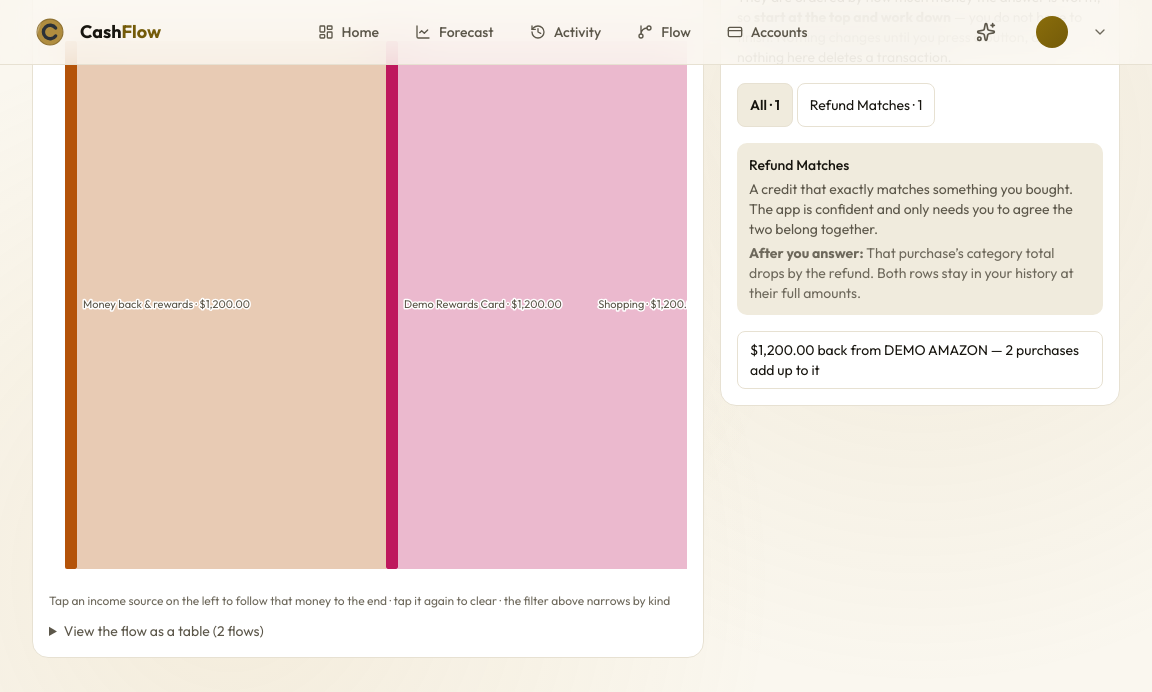
FIN-RECOVERY-UI-001 · confirmation and editing (F1-F8) › F6 — after confirming: the count updates, the item leaves, aria-live announces, no reload
(page scrolled)
Click the button "$1,200.00 back from DEMO AMAZON — 2 purchases add up to it": [920, 360] box left=737, top=331, right=1103, bottom=389
(page scrolled)
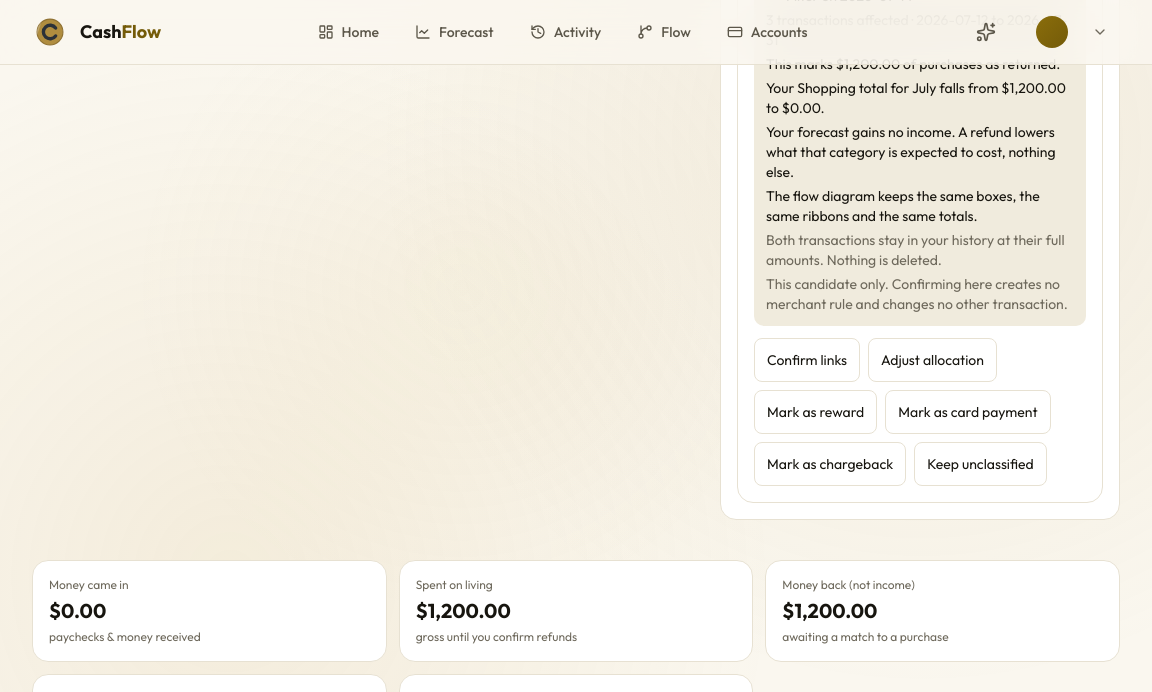
Click the button "Confirm links": [807, 360] box left=754, top=338, right=860, bottom=382
(page scrolled)
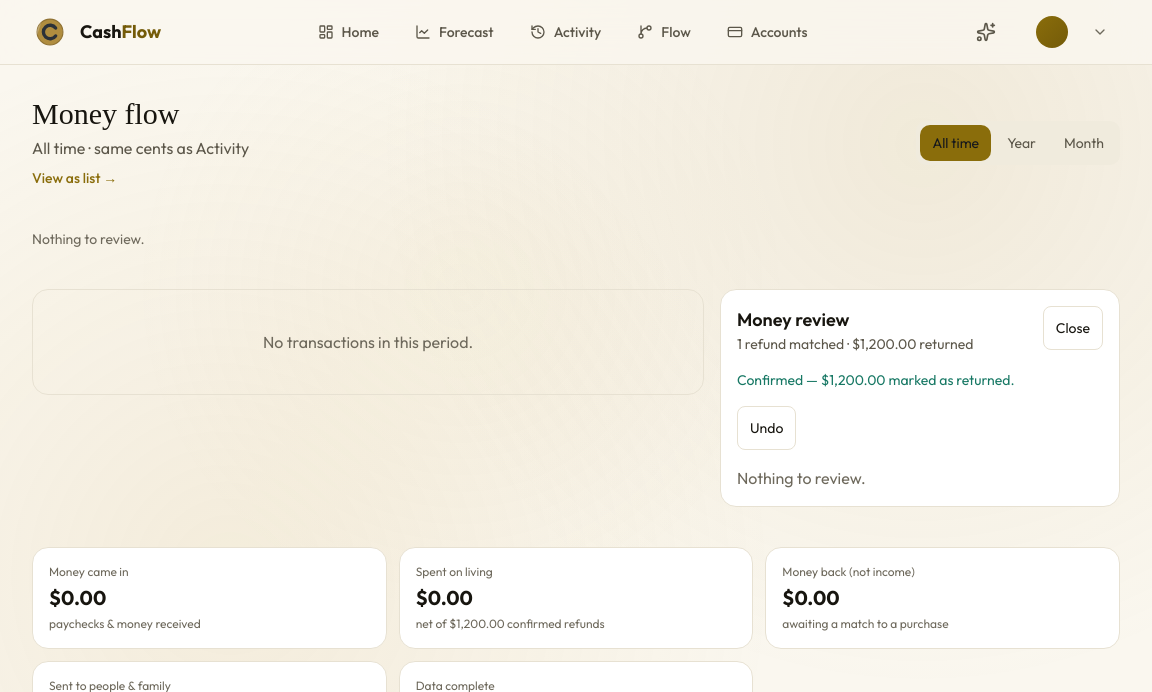
Expected: the button "back from DEMO AMAZON" is not shown
Now the text "Confirmed — $1,200.00 marked as returned." is shown, box left=737, top=371, right=1014, bottom=389
Now the 1st text "Nothing to review." is shown, box left=32, top=229, right=145, bottom=249
